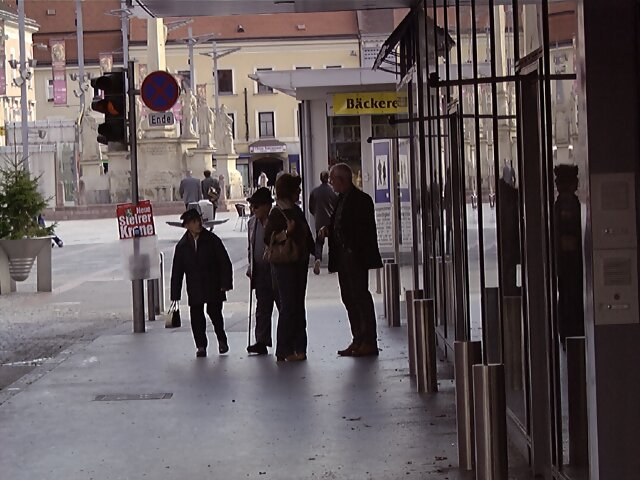person: (321, 164, 394, 362), (168, 200, 239, 355), (268, 171, 325, 362)
